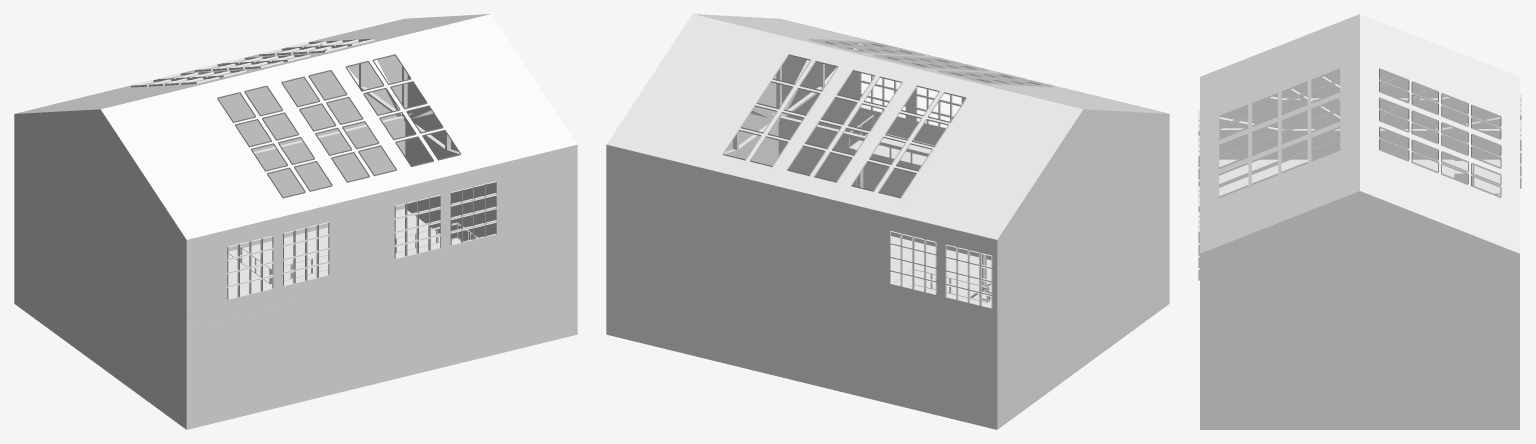
3 views of the same model, side by side, from view 1: azimuth 30°, elevation 25°; view 2: azimuth 150°, elevation 25°; view 3: azimuth 270°, elevation 25° (orthographic). The views are drawn at different scales.
Visible parts, largest first — view 1: Box001; view 2: Box001; view 3: Box001.
Part boxes in pixels (left/top/right/bottom): Box001: left=14, top=14, right=577, bottom=429; Box001: left=606, top=14, right=1169, bottom=429; Box001: left=1198, top=14, right=1521, bottom=429.
Size of the model in its own units: 11.57 by 7.29 by 8.93.
1 material, 1 textured.
